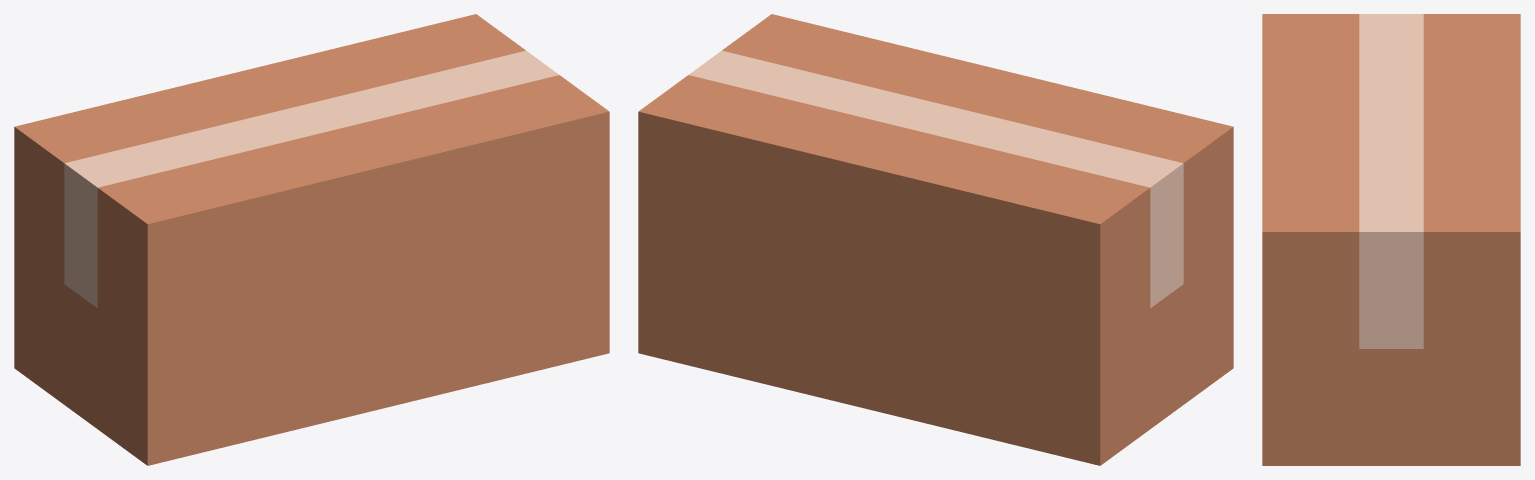
The model's file is BoxLong-transformed.glb.
3 views of the same model, side by side, from view 1: azimuth 30°, elevation 25°; view 2: azimuth 150°, elevation 25°; view 3: azimuth 270°, elevation 25° (orthographic). The views are drawn at different scales.
Parts seen in each view (by area): view 1: box-long; view 2: box-long; view 3: box-long.
Boxes of the visible parts, left/top/right/bottom form: box-long: left=14, top=14, right=609, bottom=465; box-long: left=638, top=14, right=1233, bottom=465; box-long: left=1262, top=14, right=1520, bottom=465.
Size of the model in its own units: 1 by 0.5 by 0.5.
